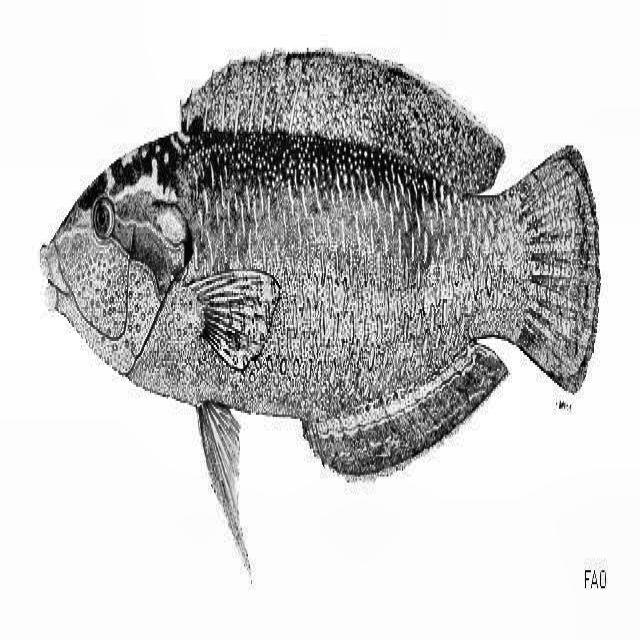fish: (39, 46, 604, 592)
